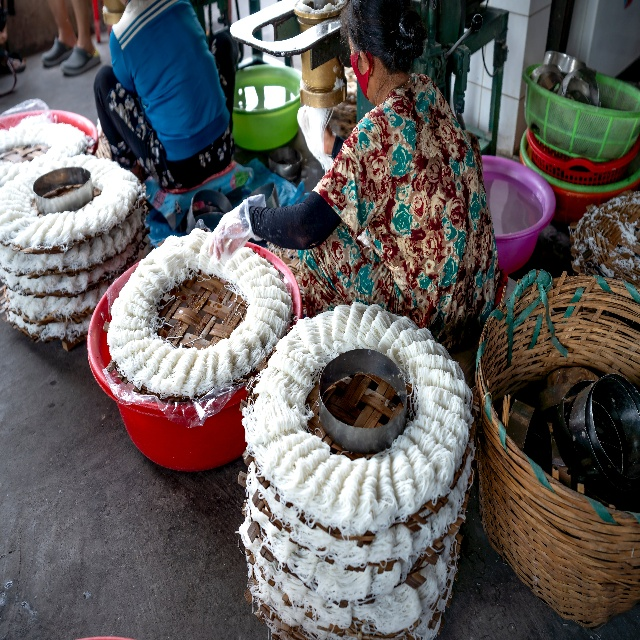Guantes: (208, 194, 266, 260)
Mascara: (350, 51, 373, 101)
Sin_guantes: (208, 222, 245, 260)
